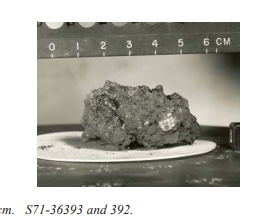Breccia: (83, 76, 223, 154)
